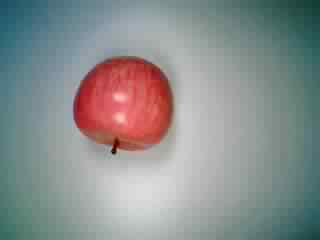apple: (69, 55, 173, 159)
